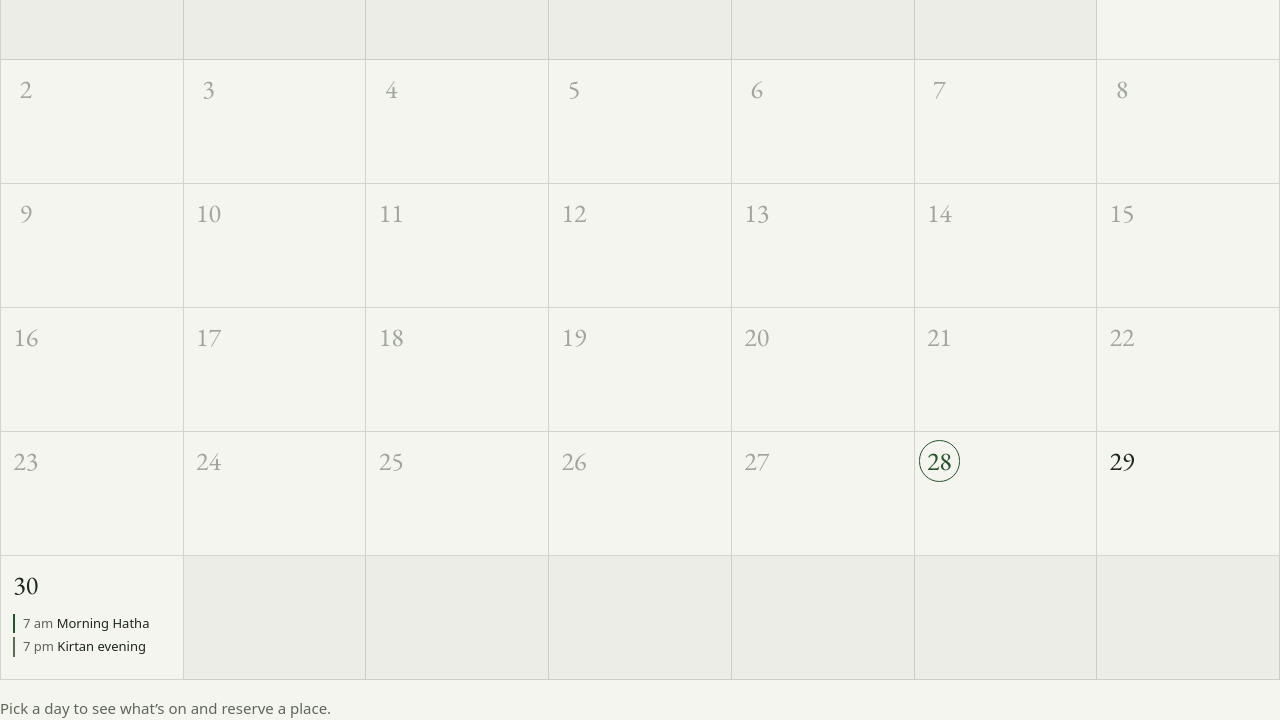
Test: × closes it, and the same day again closes it too
(page scrolled)
What coordinates should you click on to do the following:
click the cell with class "has"
I would click on:
 (92, 618)
Its box is [1, 556, 184, 680].
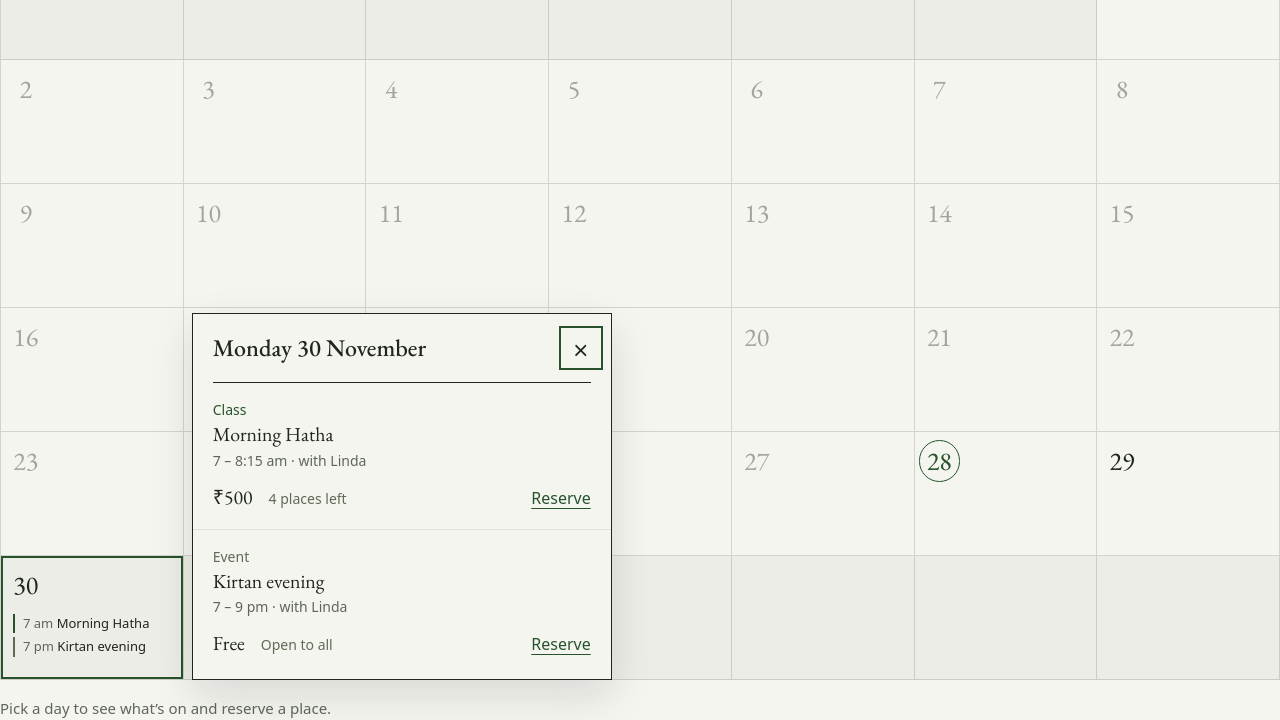
What coordinates should you click on to do the following:
click the button with class "sn-pop-close"
I would click on:
 (581, 348)
Its box is [559, 326, 603, 370].
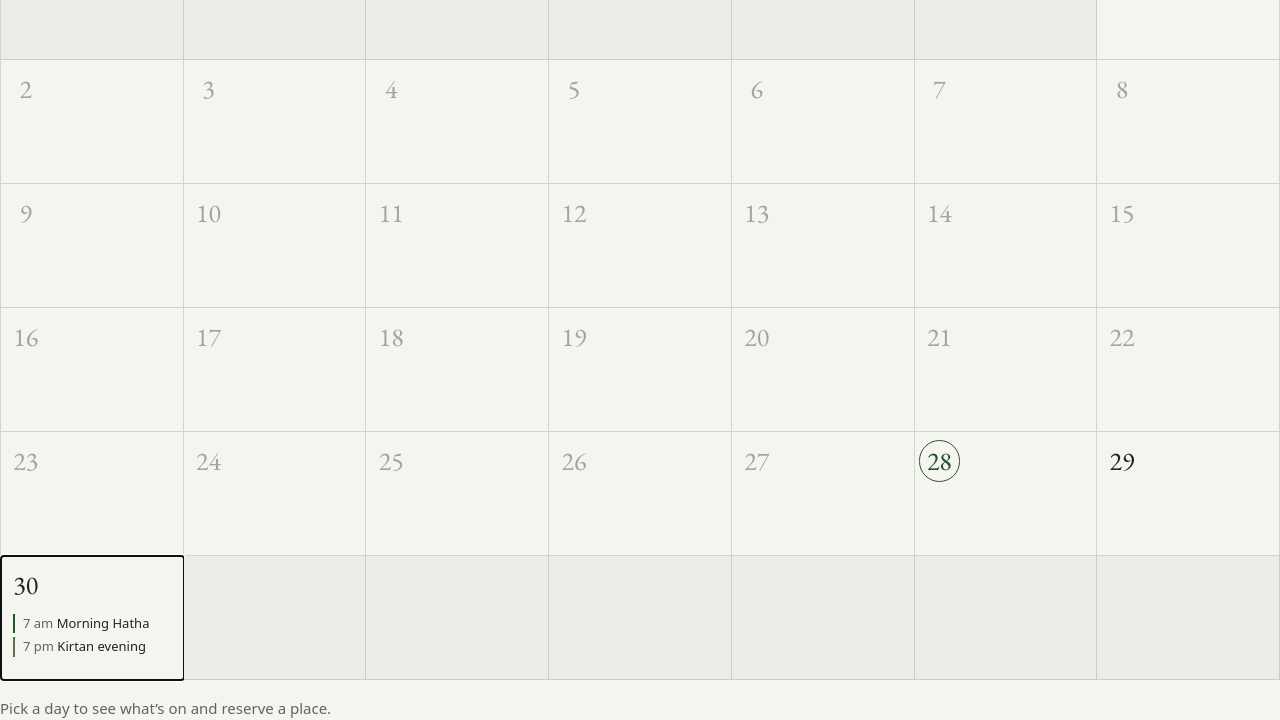
expect the dialog is gone: met
What coordinates should you click on to do the following:
click the cell with class "has"
I would click on:
 (92, 618)
Its box is [1, 556, 184, 680].
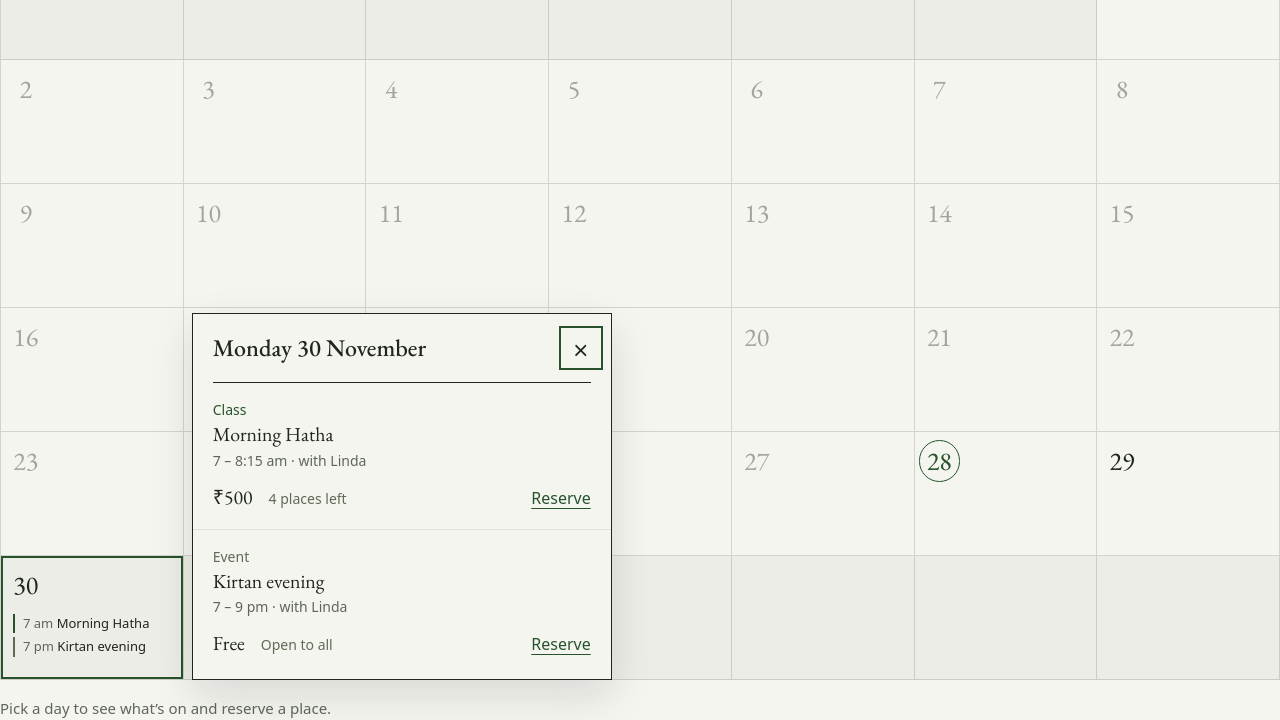
What coordinates should you click on to do the following:
click the cell with class "has"
I would click on:
 (92, 618)
Its box is [1, 556, 184, 680].
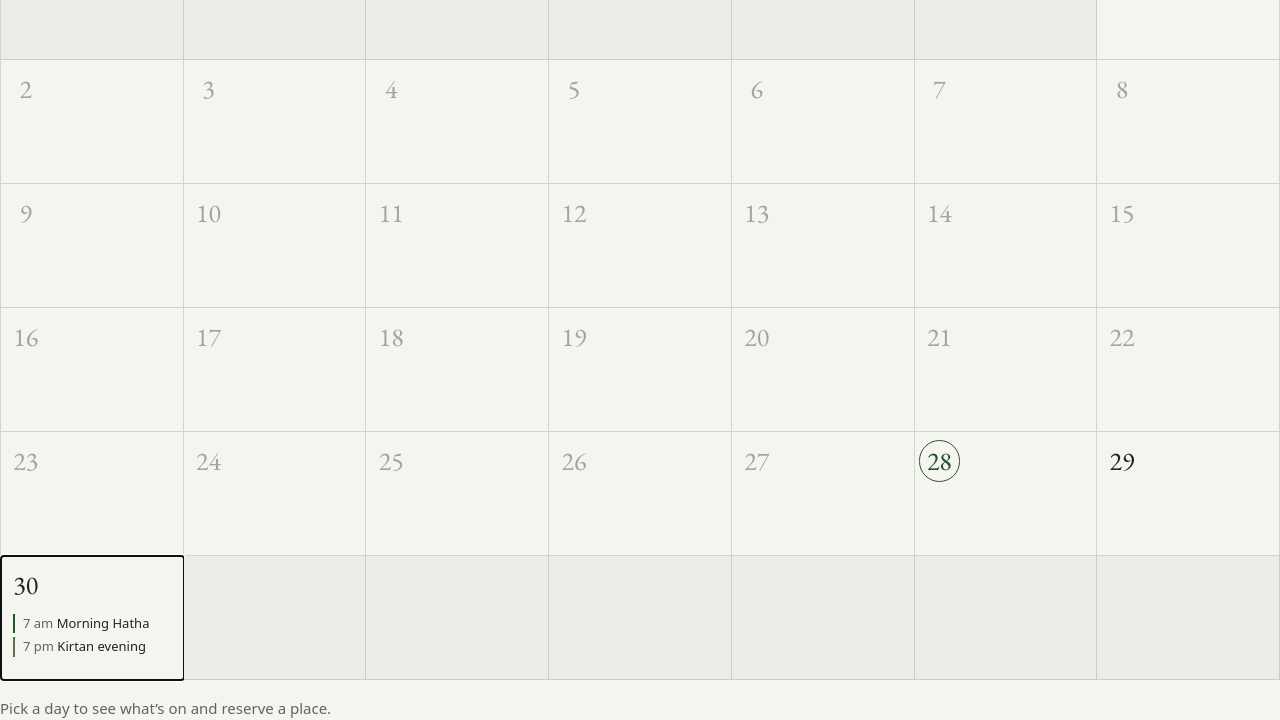
expect the dialog is gone: met
